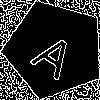A: (29, 24, 85, 82)
